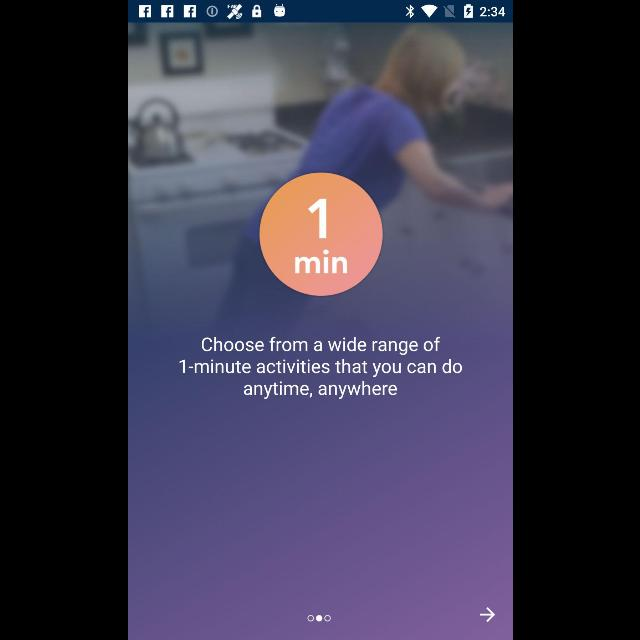backgroundimage: (128, 22, 512, 640)
icon: (479, 608, 495, 622)
image: (258, 172, 382, 296)
pageindicator: (306, 614, 330, 622)
text: (178, 337, 462, 401)
uppertaskbar: (128, 1, 512, 23)
